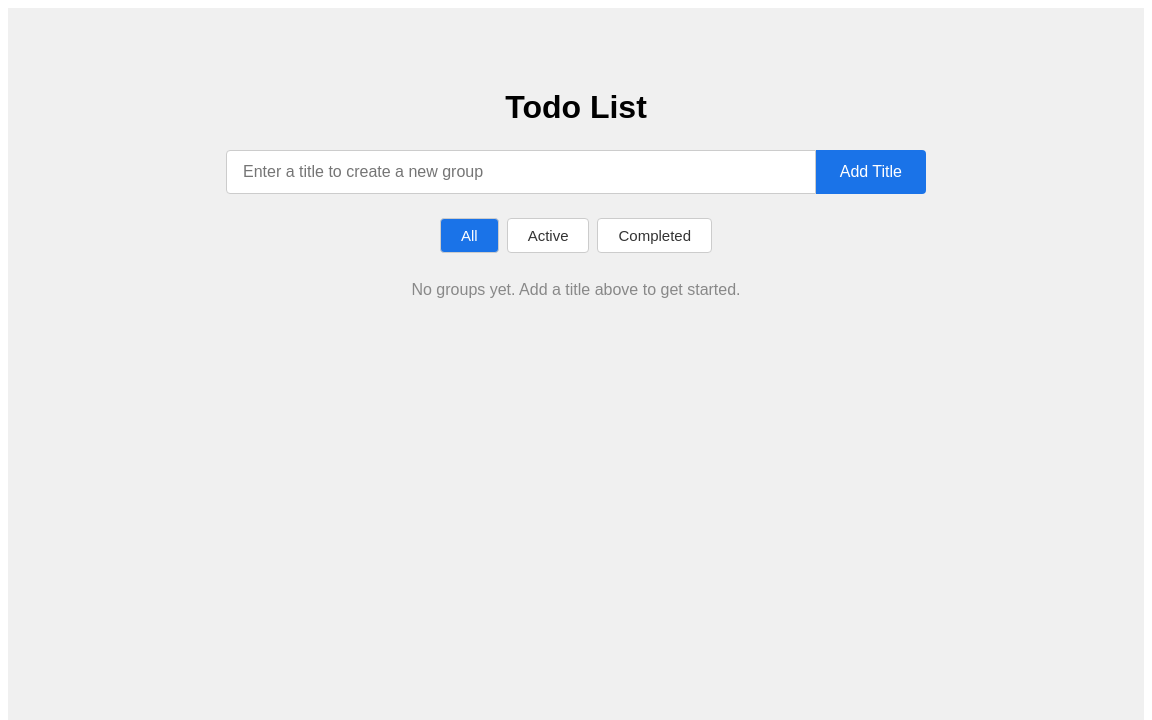
Test case: Group operations › adds a new group on button click
This screenshot has width=1152, height=720.
Expected: the heading "Todo List" is shown, [505,89,647,125]
Step 1. Type "New Group" into the field with test id "group-input" → {"x": 521, "y": 172}, box [226,150,816,194]
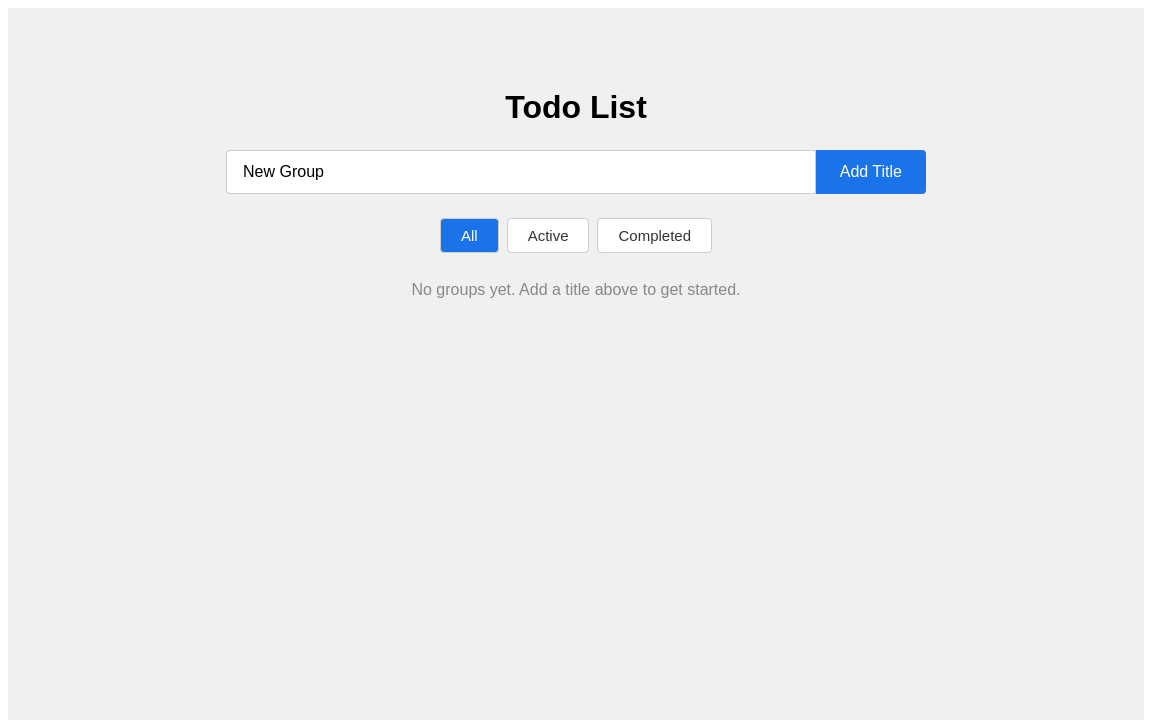
Step 2. Click the button with test id "add-group-btn" → {"x": 871, "y": 172}, box [816,150,926,194]
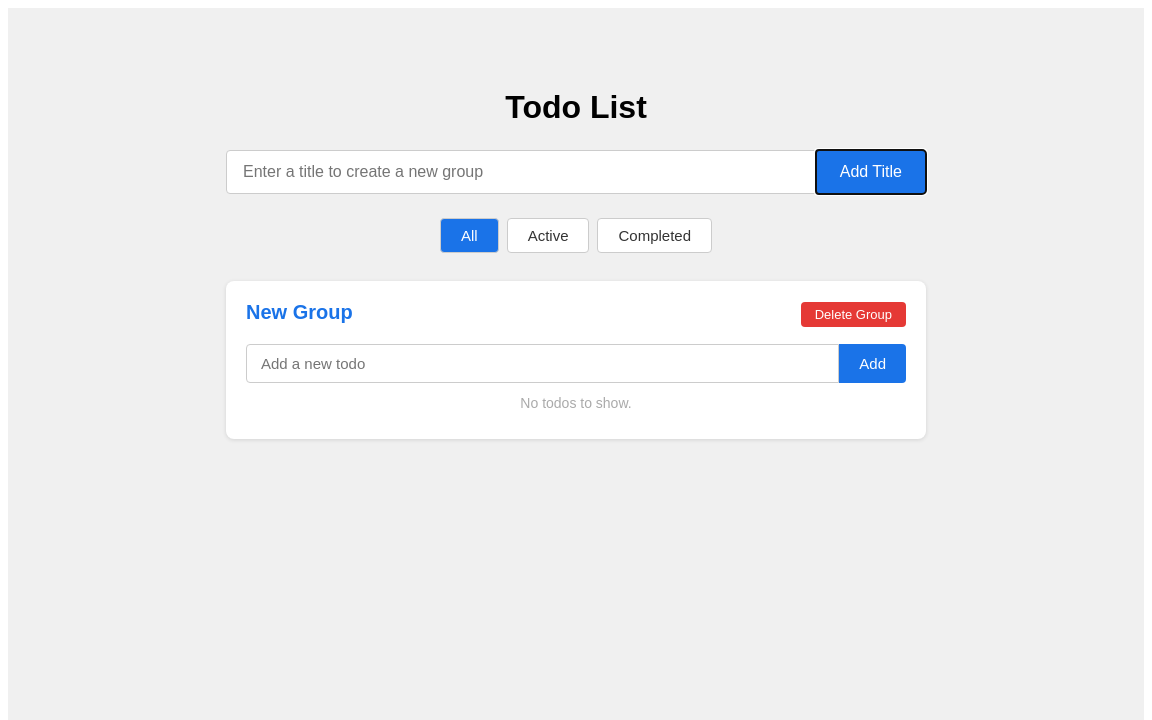
Expected: the heading "New Group" is shown, [246,301,353,324]
